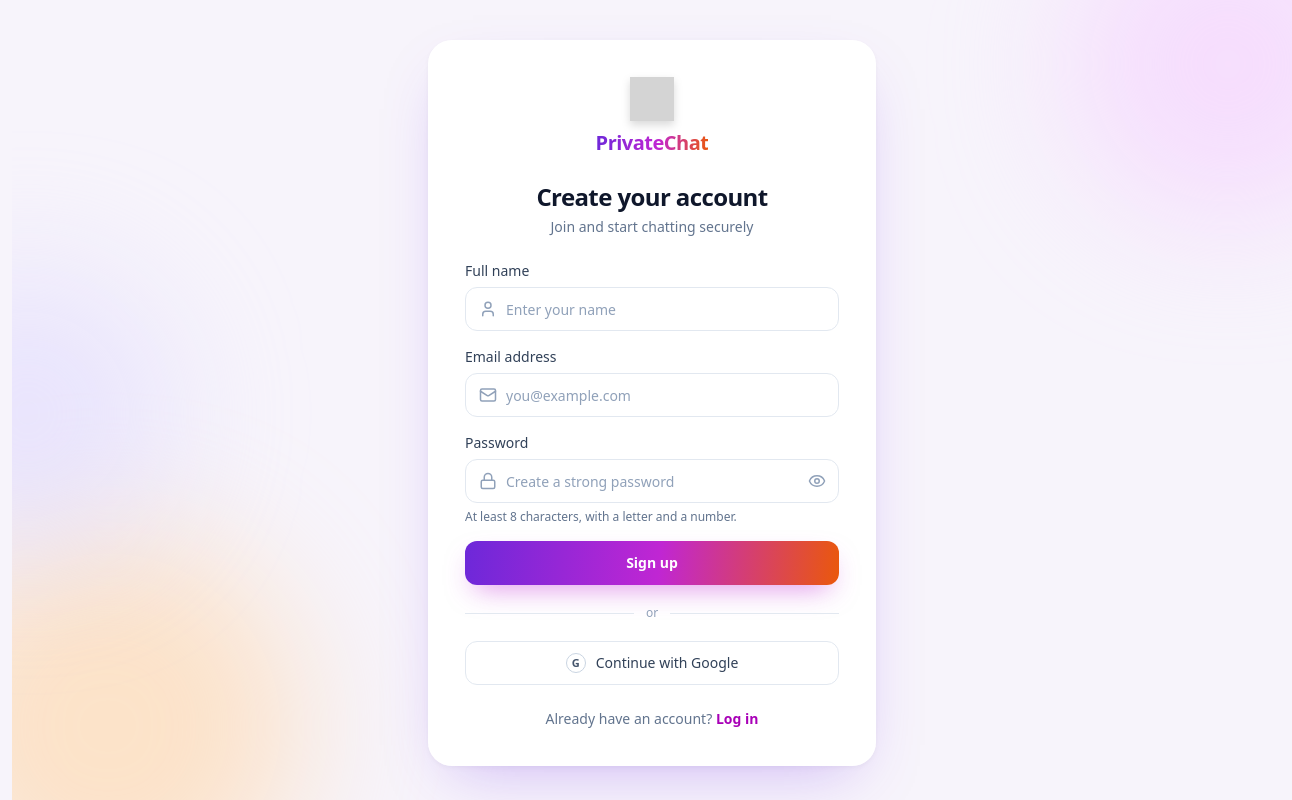
sign-up page › signs the user in directly when confirmation is off
Type "Ratan Kumar" into the field labelled "Full name" at (652, 309), box x1=465 y1=287 x2=839 y2=331
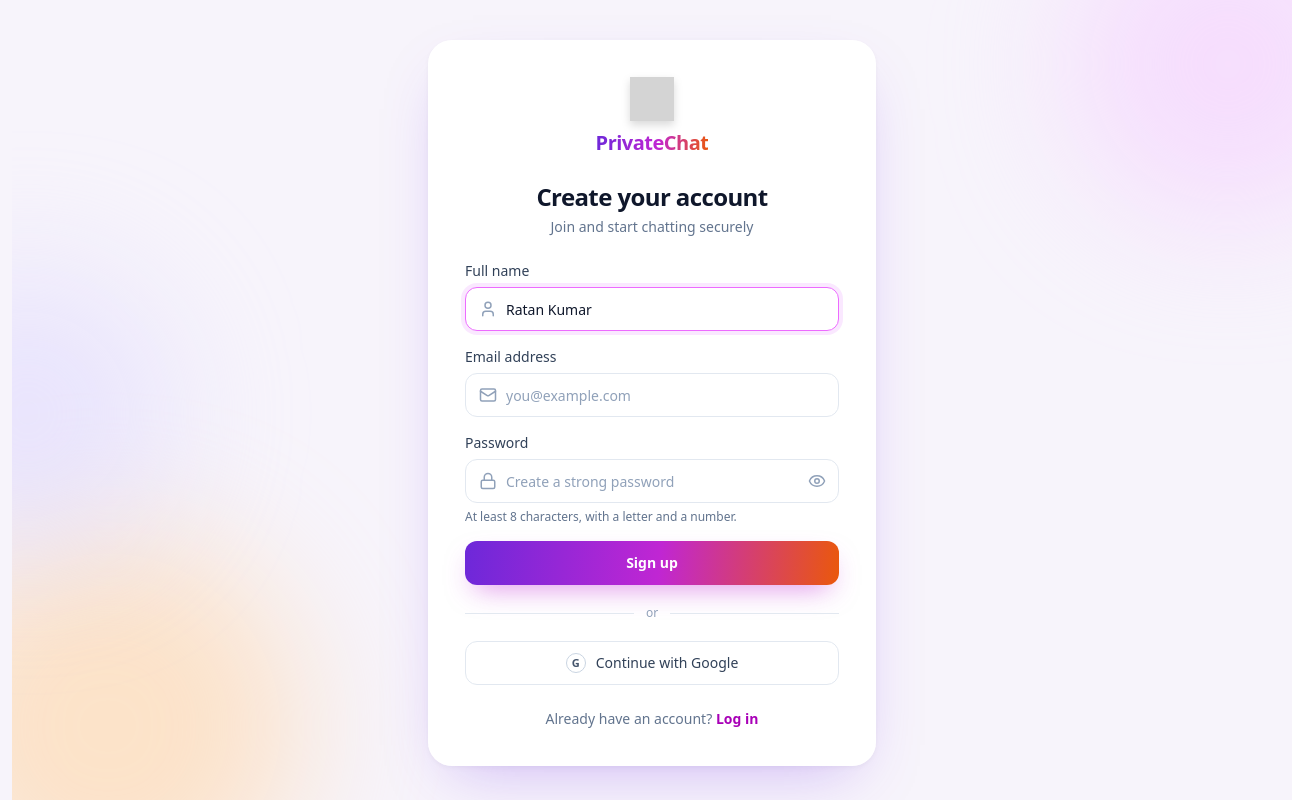
Type "ratan@example.com" into the field labelled "Email address" at (652, 395), box x1=465 y1=373 x2=839 y2=417
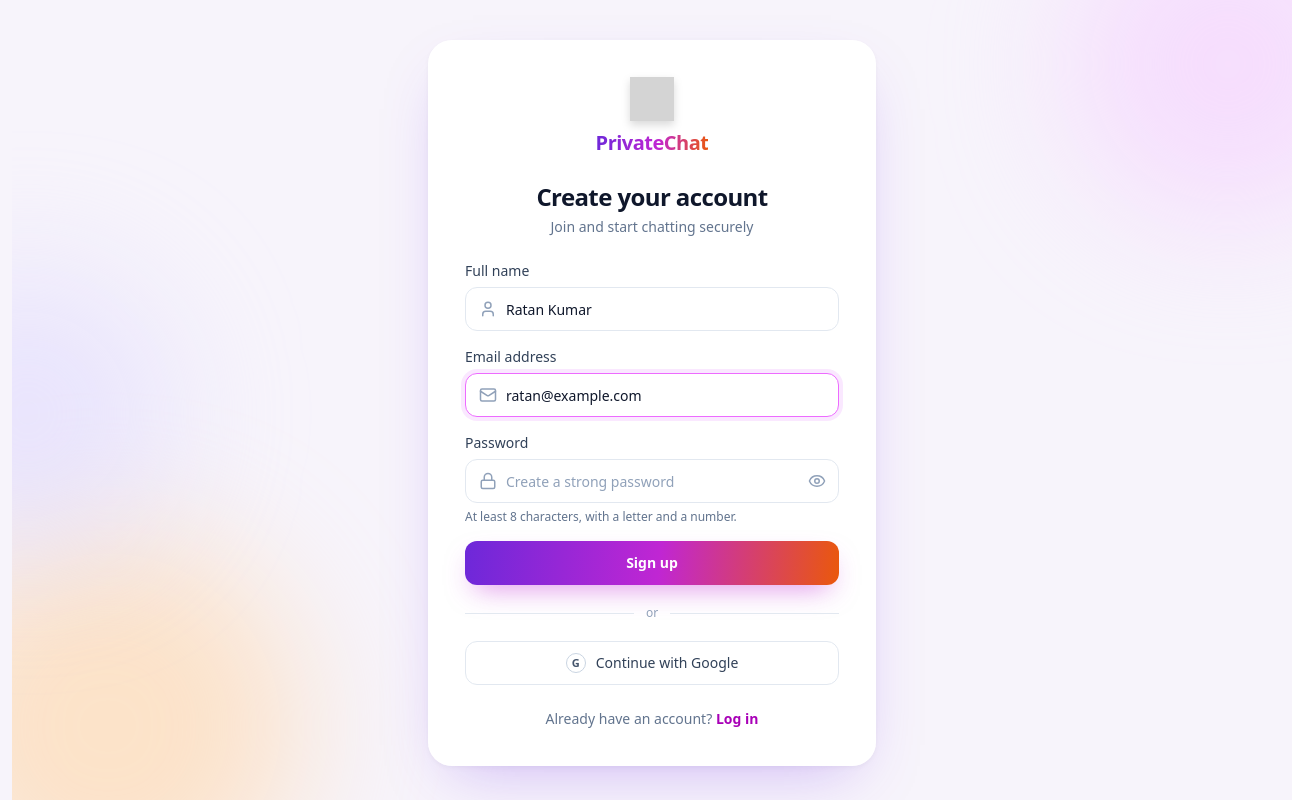
Type "Hunter2222" into the password field labelled "Password" at (652, 481), box x1=465 y1=459 x2=839 y2=503
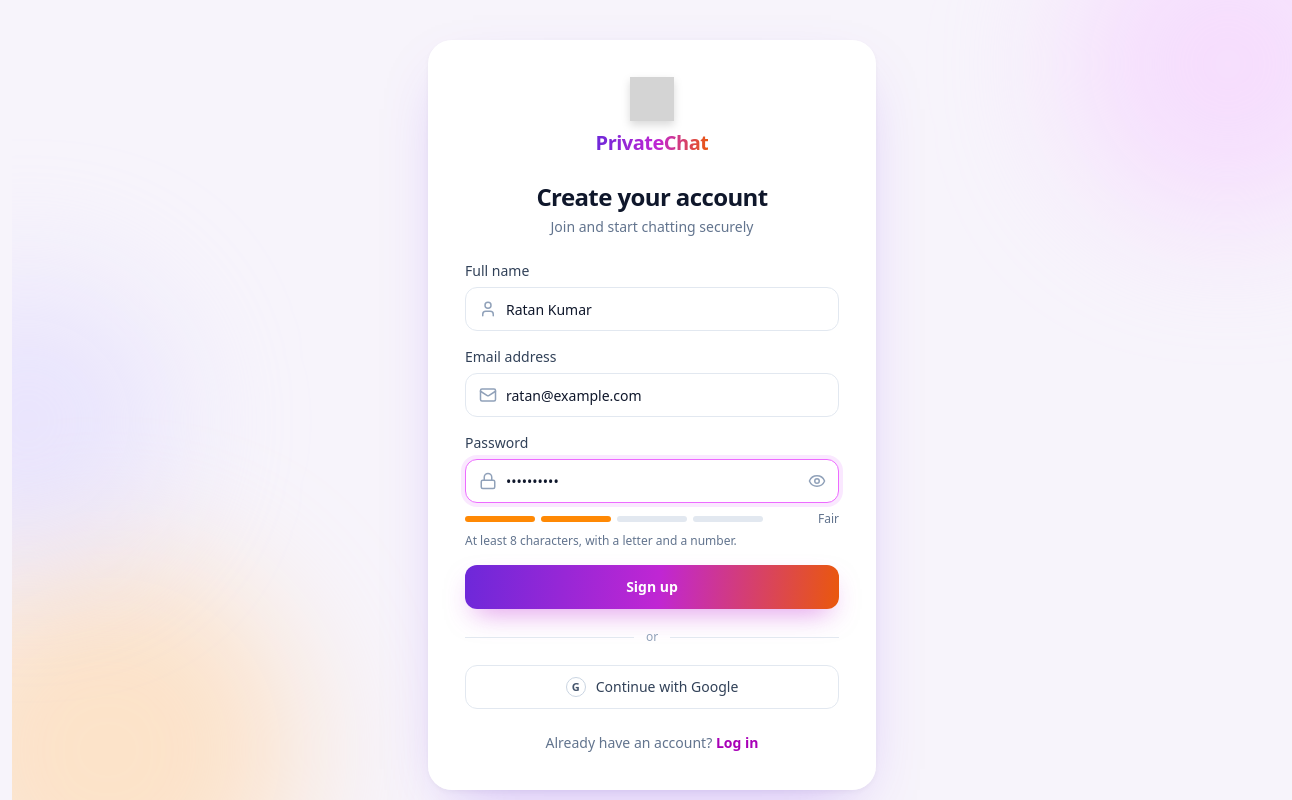
Click the button "Sign up" at (652, 587), box x1=465 y1=565 x2=839 y2=609
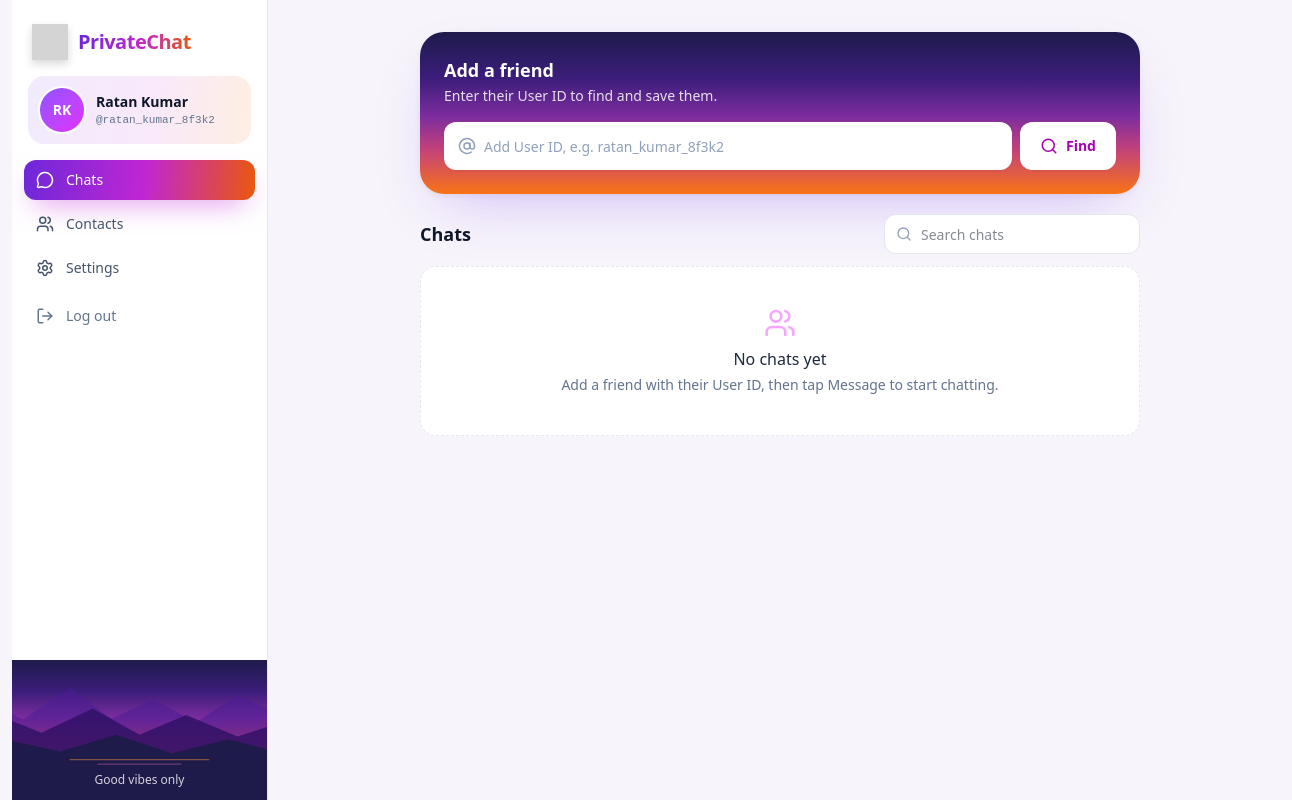
Expected: the heading "Chats" is shown, x1=420 y1=220 x2=471 y2=248
